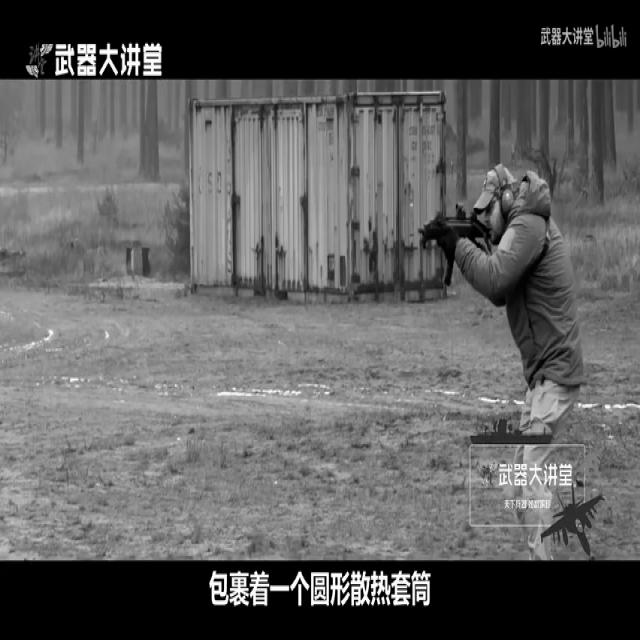Sub-machine-gun: (413, 195, 485, 283)
